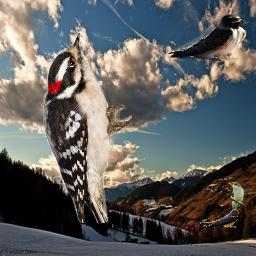Cuckoo: (226, 182, 245, 225)
Swallow: (166, 14, 247, 62), (194, 209, 239, 228)
Woodpecker: (43, 32, 132, 223)
